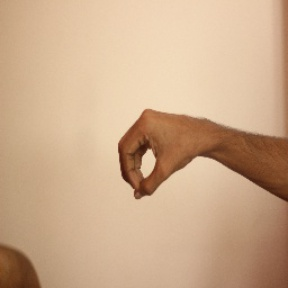O: (115, 105, 201, 201)
